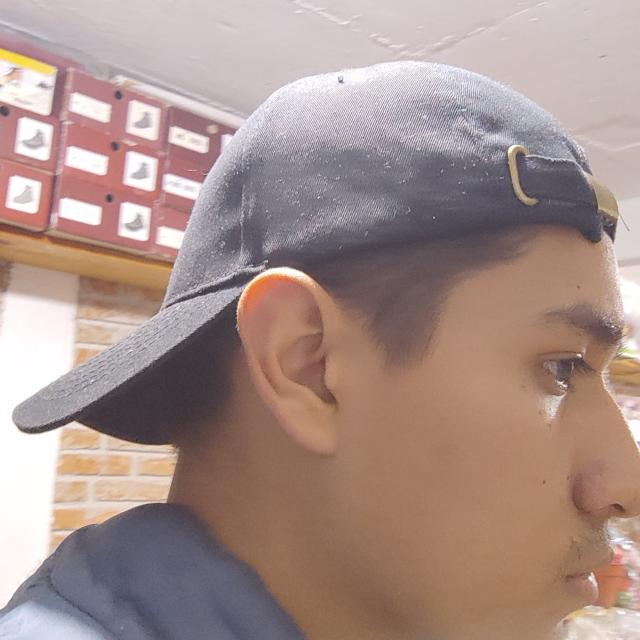ear: (236, 268, 344, 456)
